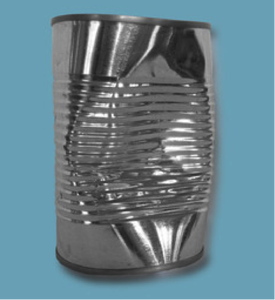Rec_Metal: (44, 9, 220, 278)
